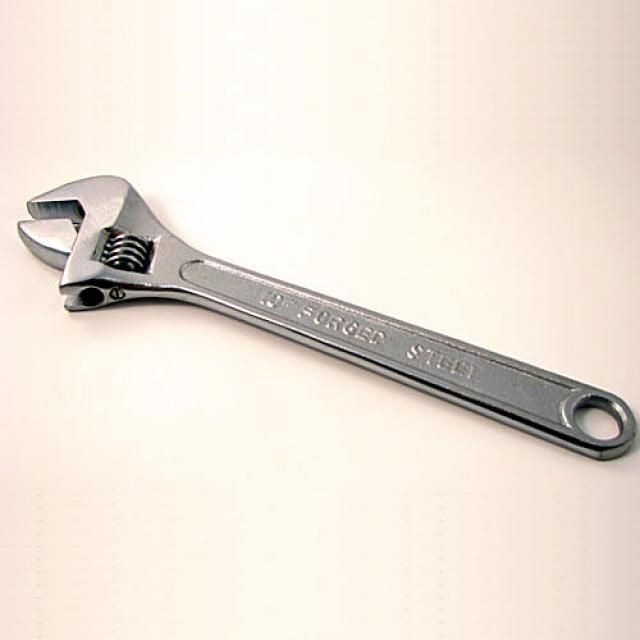wrench: (10, 168, 640, 466)
